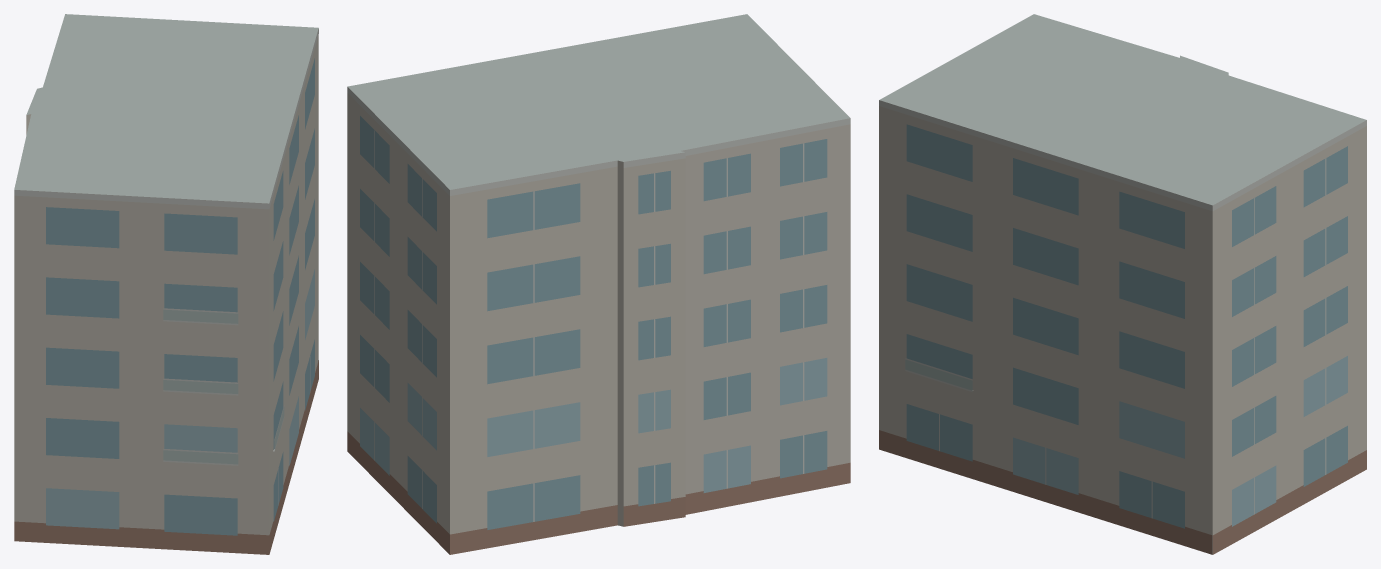
Rendered from survey-upis-32853504.glb.
The picture shows the model from 3 angles, left to right: view 1: azimuth 30°, elevation 25°; view 2: azimuth 150°, elevation 25°; view 3: azimuth 270°, elevation 25°; orthographic projection. The views are drawn at different scales.
Visible parts, largest first — view 1: survey-upis-32853504.tmp; view 2: survey-upis-32853504.tmp; view 3: survey-upis-32853504.tmp.
Part boxes in pixels (x1=…): survey-upis-32853504.tmp: x1=14, y1=14, x2=318, y2=554; survey-upis-32853504.tmp: x1=347, y1=14, x2=850, y2=554; survey-upis-32853504.tmp: x1=879, y1=14, x2=1366, y2=554.
Size of the model in its own units: 17.17 by 14.6 by 18.48.
